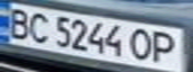2: (66, 16, 90, 52)
4: (103, 21, 130, 57), (87, 19, 109, 55)
5: (48, 14, 72, 50)
B: (3, 5, 33, 39)
C: (24, 10, 54, 44)
O: (124, 26, 157, 62)
P: (148, 29, 184, 65)
